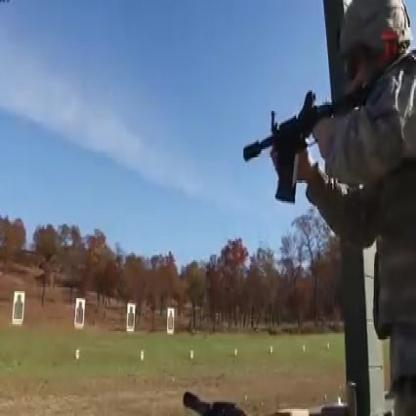Gun: (236, 71, 344, 226)
